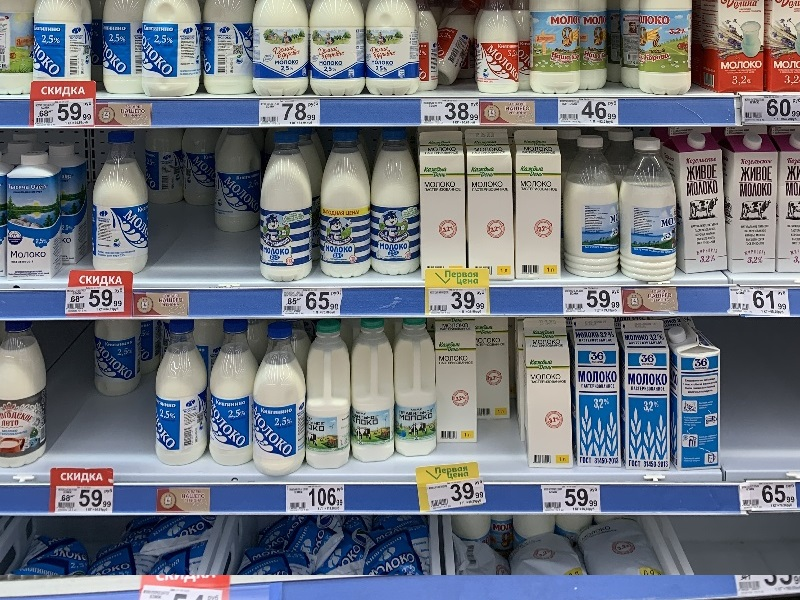milk: (82, 128, 161, 284), (244, 130, 321, 282), (308, 127, 381, 282), (141, 319, 218, 465), (614, 131, 686, 287), (669, 122, 737, 282), (1, 319, 69, 479), (556, 127, 627, 280), (611, 317, 676, 473), (360, 129, 427, 280), (516, 316, 581, 471), (462, 127, 523, 287), (721, 122, 784, 276), (568, 317, 629, 476), (253, 320, 310, 482), (202, 315, 260, 472), (413, 126, 472, 274), (302, 319, 358, 470), (514, 126, 566, 285), (386, 316, 442, 462), (345, 319, 400, 467), (208, 123, 265, 235)
